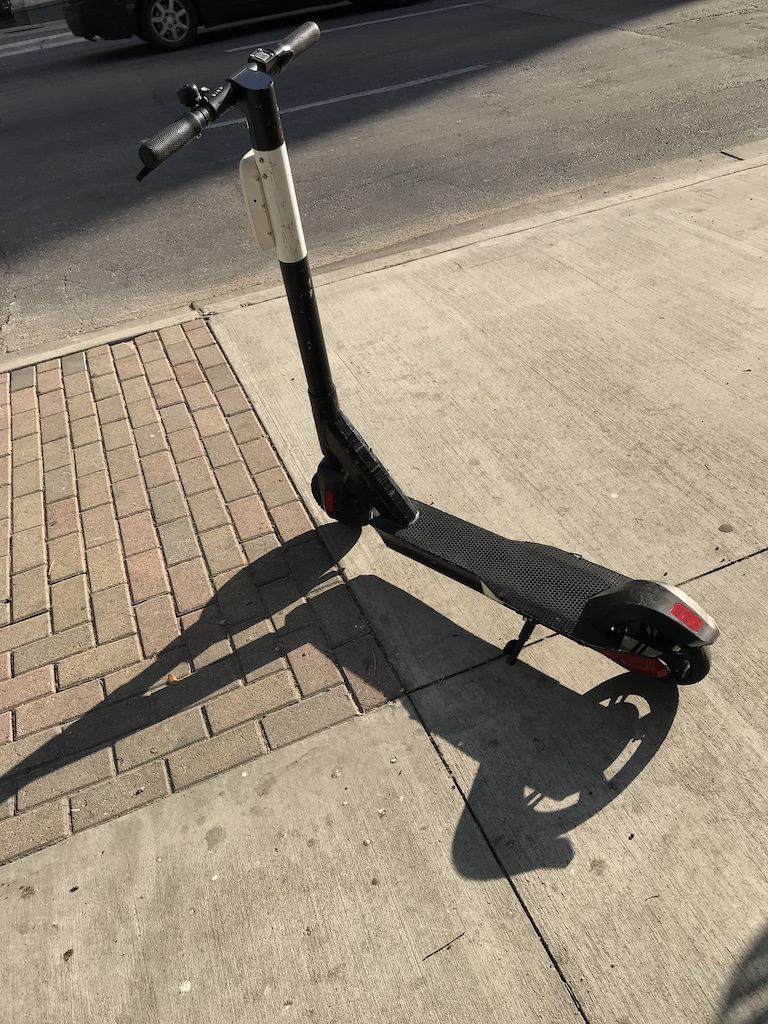scooter: (134, 23, 721, 687)
